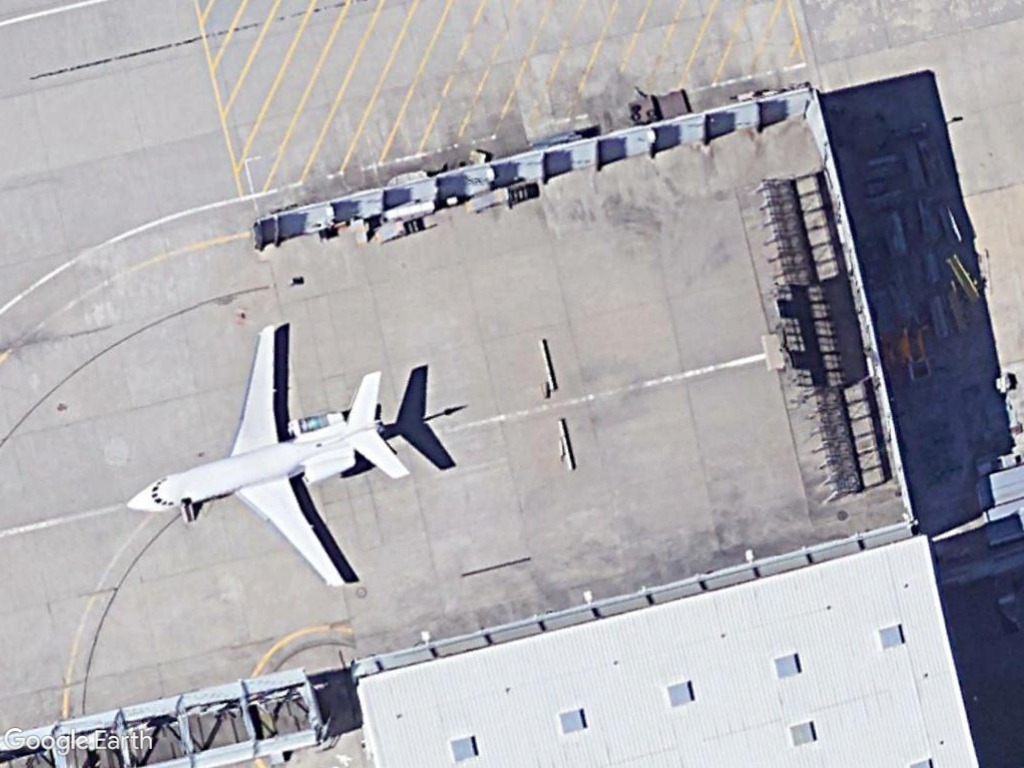chartered: (120, 321, 409, 593)
